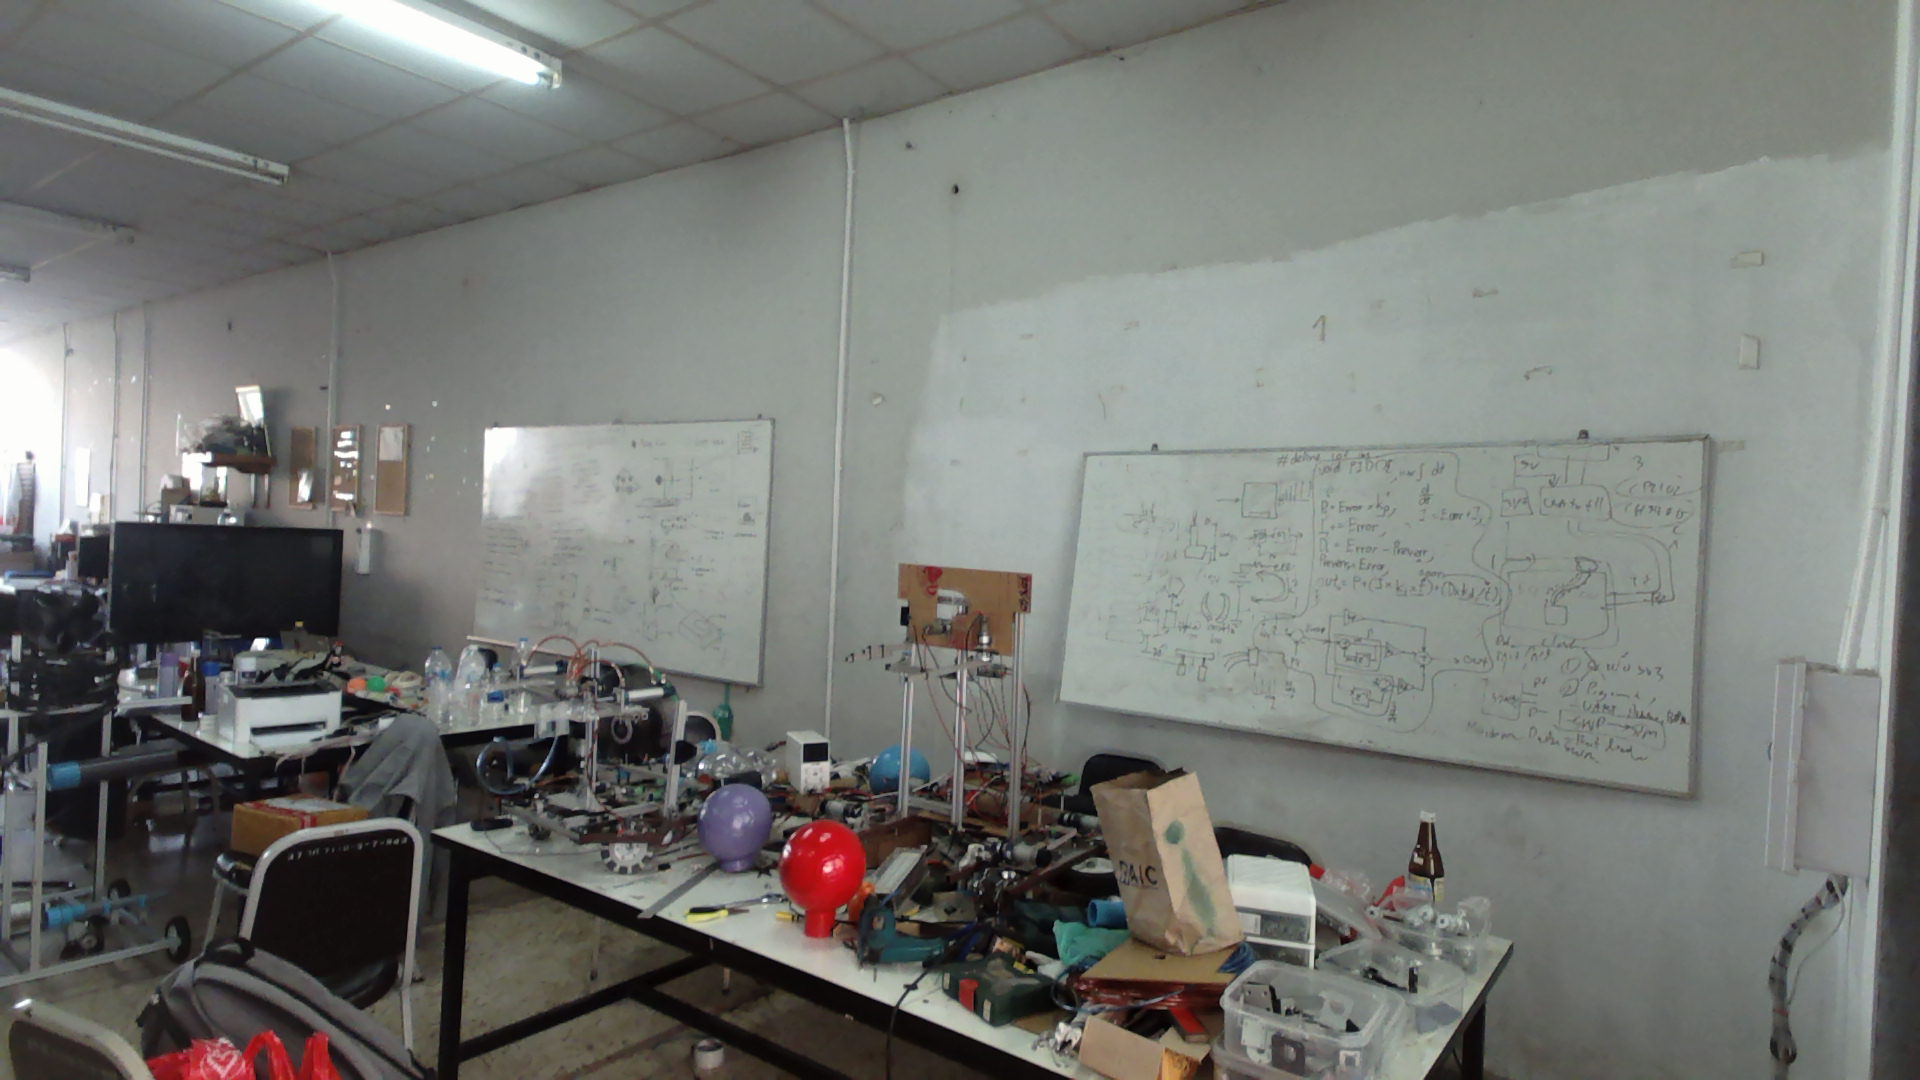Blue ball: (868, 742, 931, 782)
Purple ball: (696, 781, 774, 864)
Red ball: (777, 819, 869, 915)
